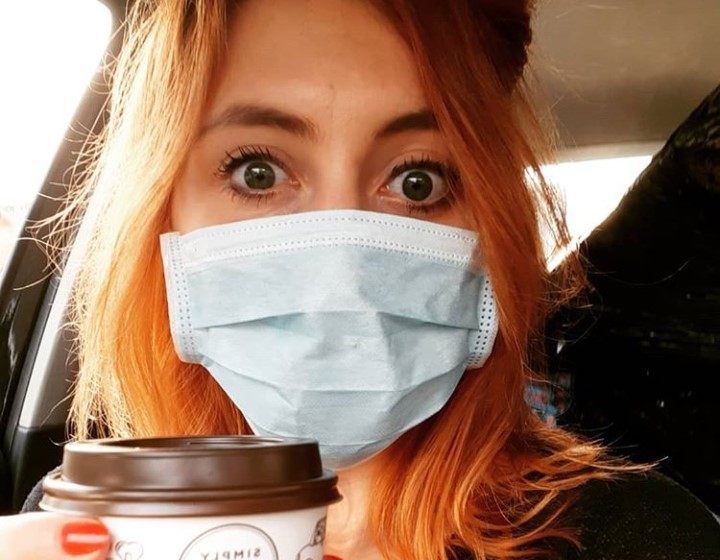face_with_mask: (145, 6, 507, 476)
